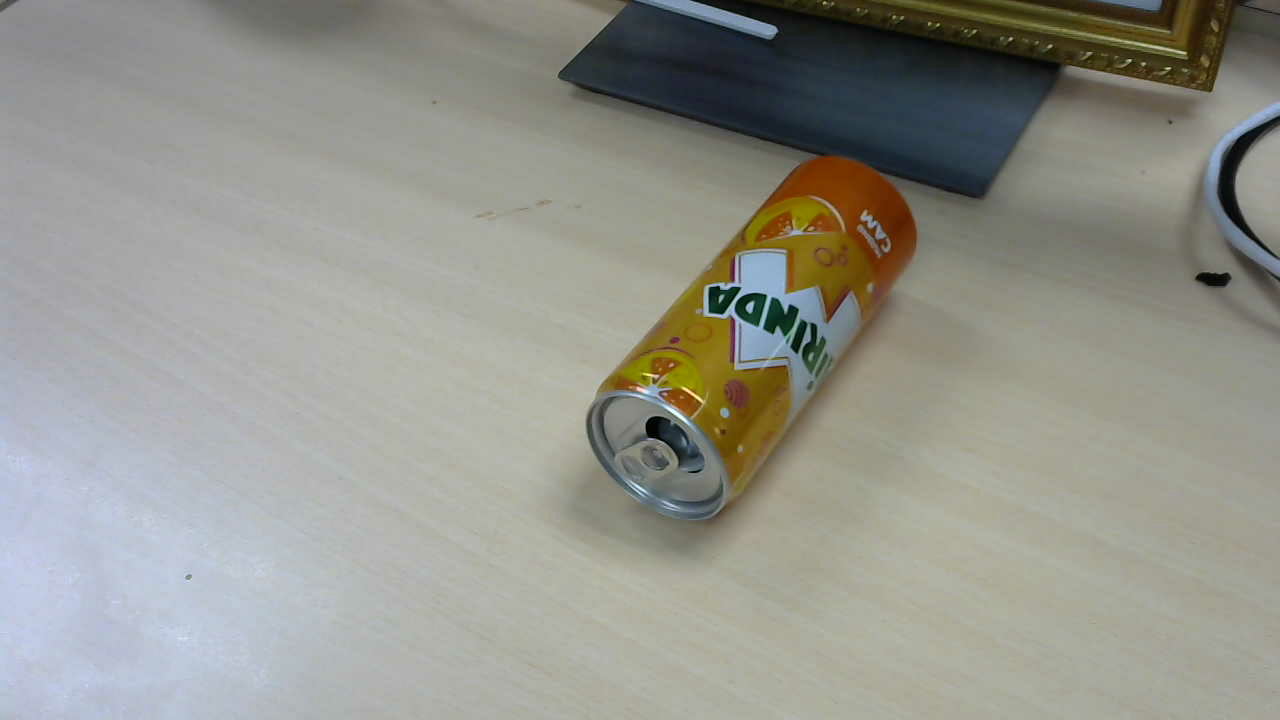Mirinda: (590, 163, 923, 527)
